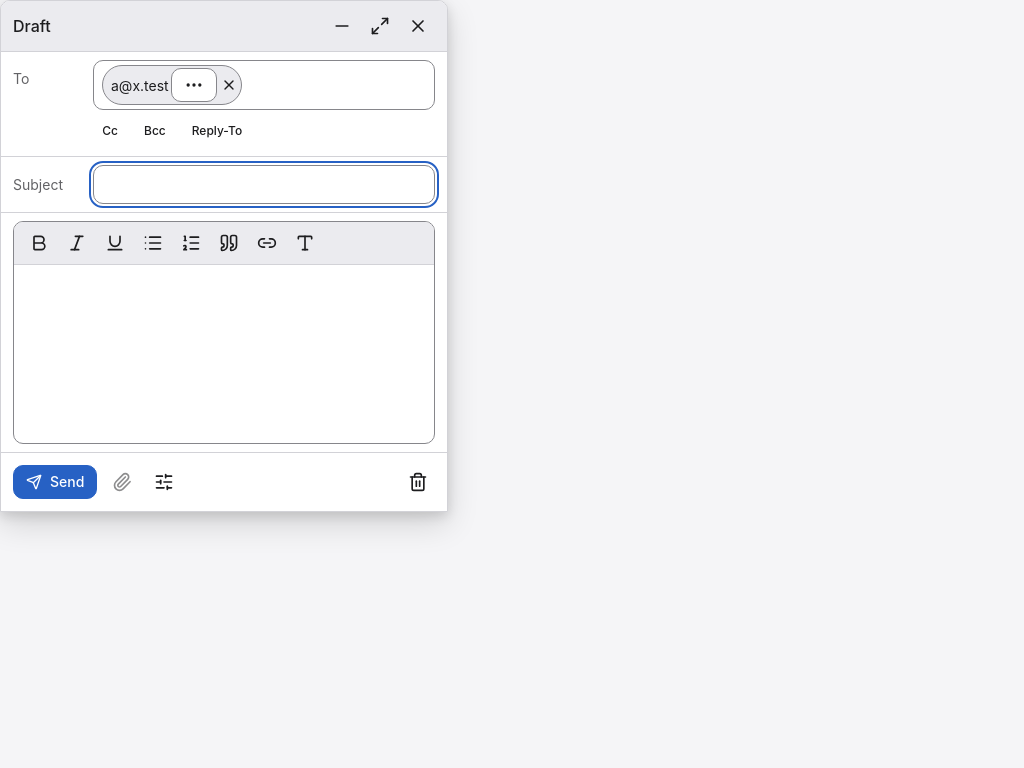
ComposerWindow › warns before sending when the body mentions an attachment but none is attached
This screenshot has width=1024, height=768.
Check: the field named "Message body" is shown, box x1=14 y1=265 x2=434 y2=443
Click the button "Send".
click(55, 482)  # box x1=13 y1=465 x2=97 y2=499
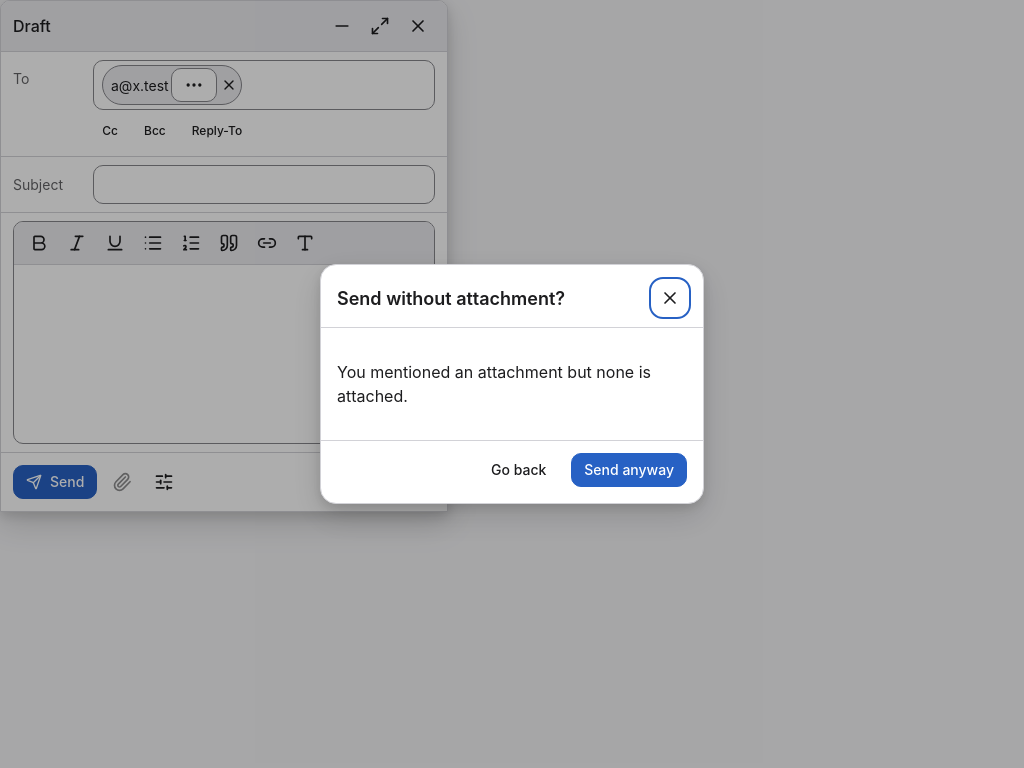
Check: the dialog "Send without attachment?" is shown, box x1=320 y1=264 x2=704 y2=504
